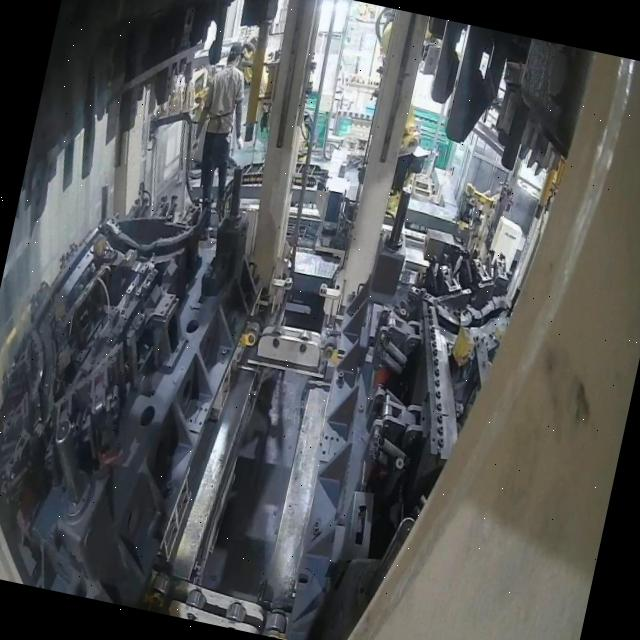Person: (178, 37, 264, 225)
